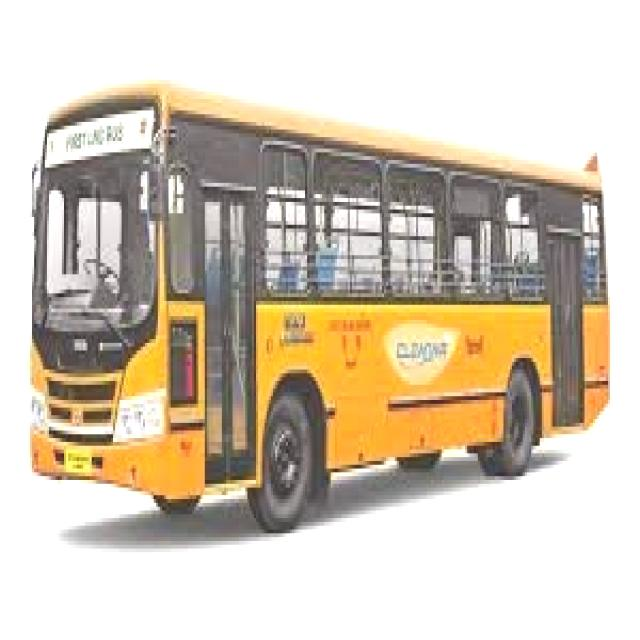bus: (21, 65, 638, 543)
